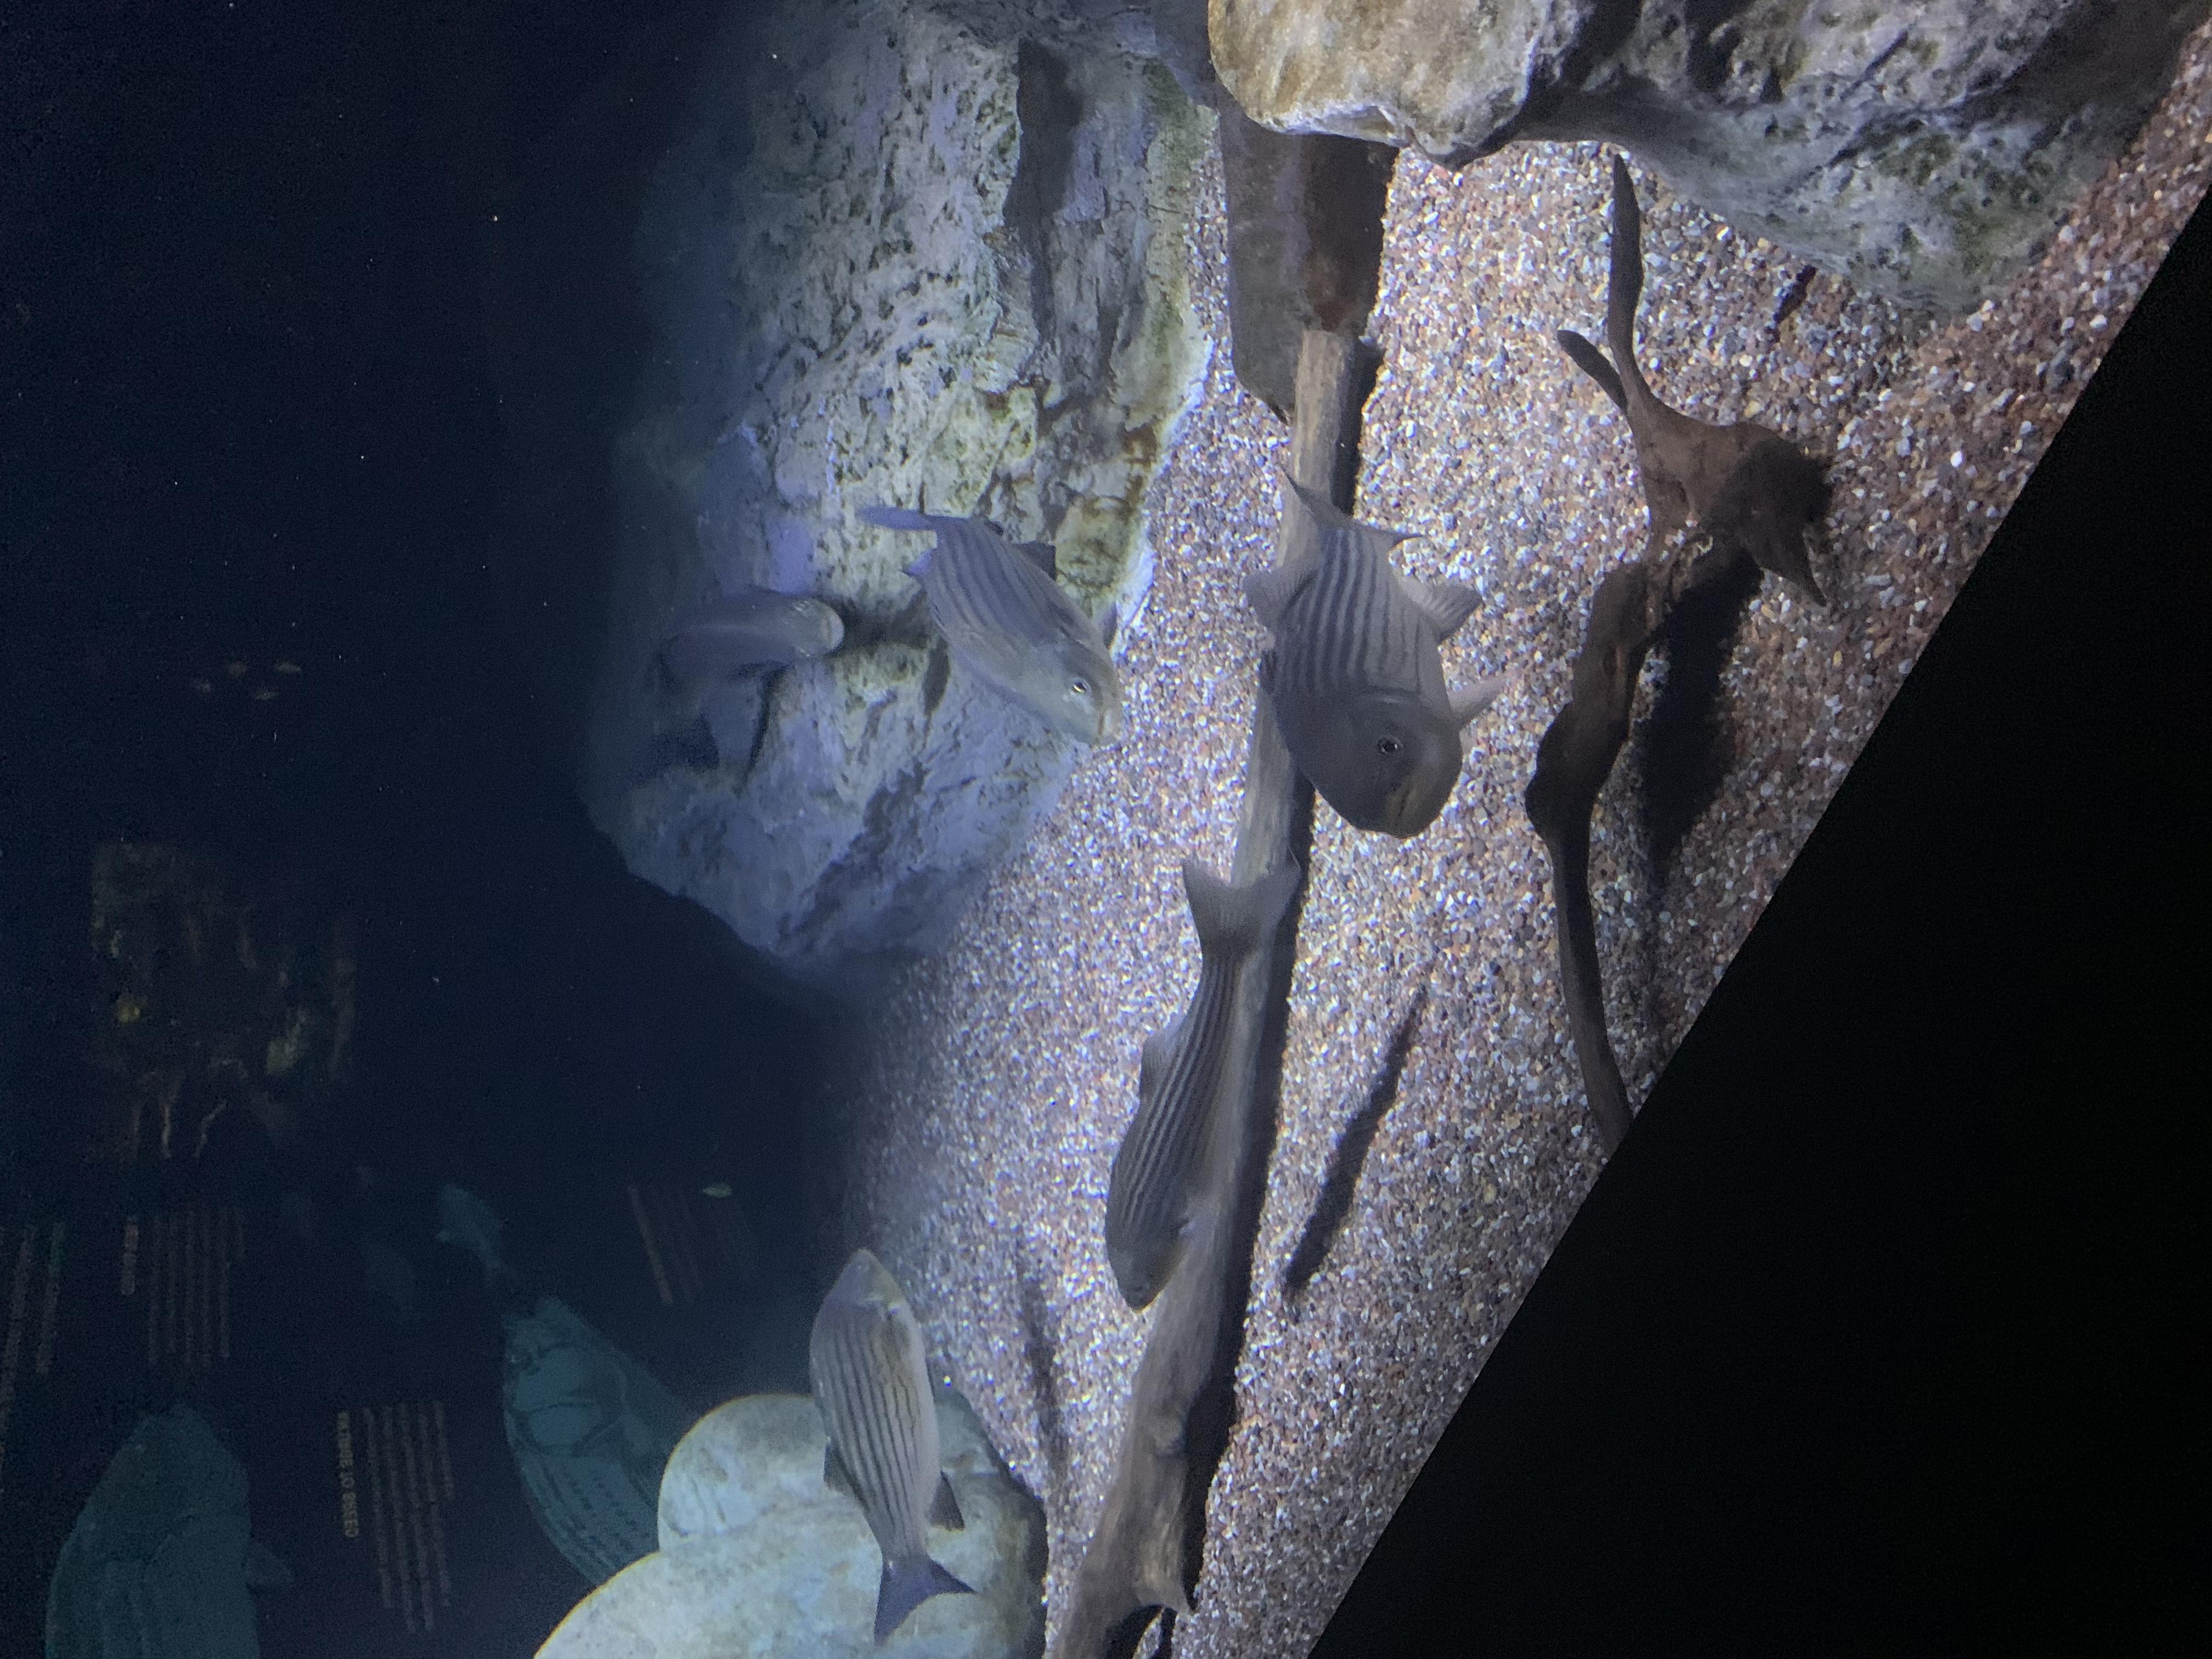fish: (1245, 461, 1502, 839), (1101, 854, 1290, 1312), (802, 1245, 979, 1651), (861, 500, 1129, 755), (644, 579, 846, 702)
